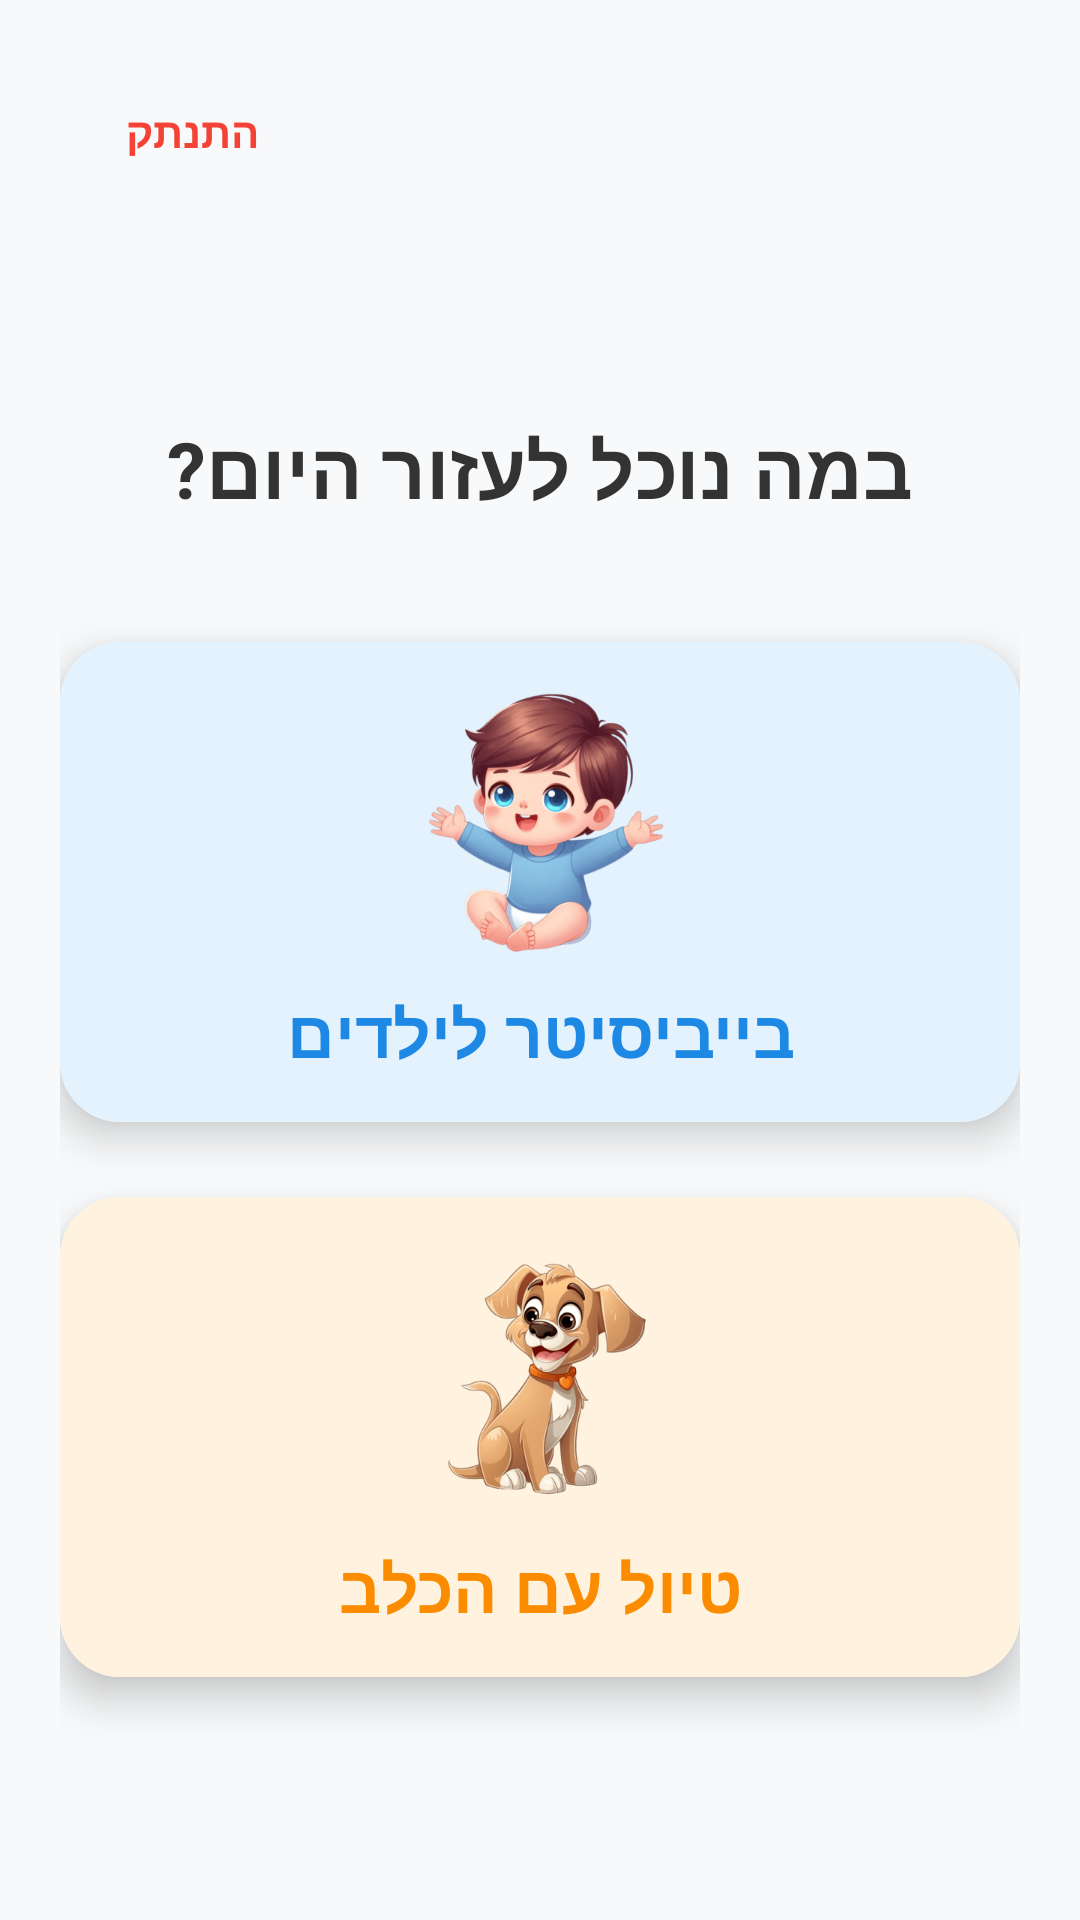

Where icons sit on this 1080px x 1920px app screen, as (x1, y1, x2, y2):
baby: (429, 694, 663, 952)
dog: (448, 1264, 646, 1494)
